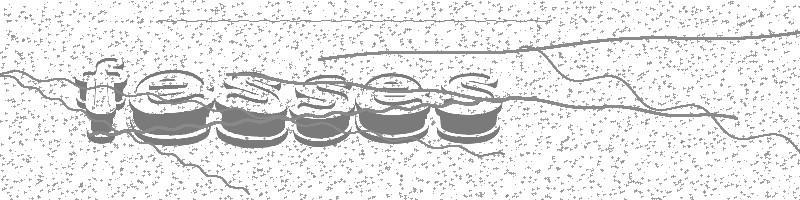e: (129, 68, 214, 147), (354, 71, 431, 145)
f: (74, 56, 129, 145)
s: (214, 72, 290, 149), (434, 72, 504, 146), (289, 73, 353, 148)
